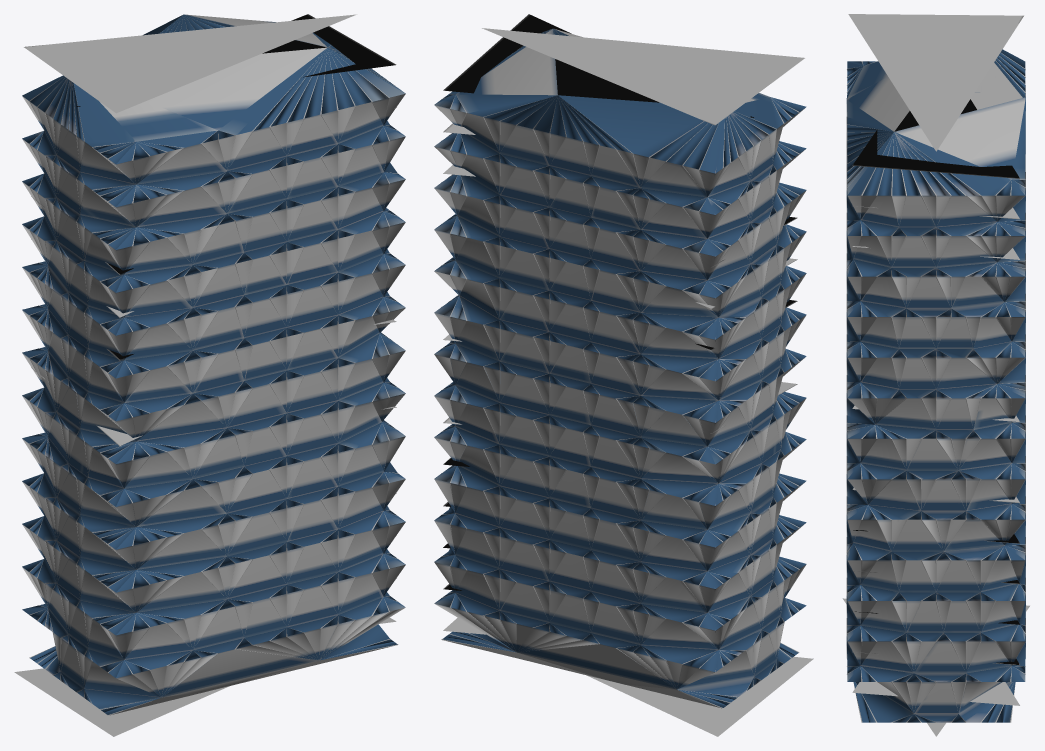
3 views of the same model, side by side, from view 1: azimuth 30°, elevation 25°; view 2: azimuth 150°, elevation 25°; view 3: azimuth 270°, elevation 25° (orthographic). The views are drawn at different scales.
Parts seen in each view (by area): view 1: Building-Big-Wide-01-BAKED.001; view 2: Building-Big-Wide-01-BAKED.001; view 3: Building-Big-Wide-01-BAKED.001.
Part boxes in pixels (bbox=[...]): Building-Big-Wide-01-BAKED.001: bbox=[14, 14, 405, 736]; Building-Big-Wide-01-BAKED.001: bbox=[434, 14, 813, 736]; Building-Big-Wide-01-BAKED.001: bbox=[842, 14, 1029, 736].
Bounding box in the file's own units: 35.07 × 70.14 × 20.11.
1 material, 1 textured.
